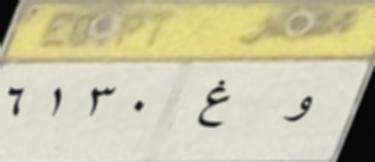0: (126, 91, 148, 119)
1: (46, 82, 68, 119)
3: (87, 80, 116, 122)
6: (0, 80, 29, 126)
ghayn: (194, 74, 230, 134)
waw: (277, 88, 316, 128)
